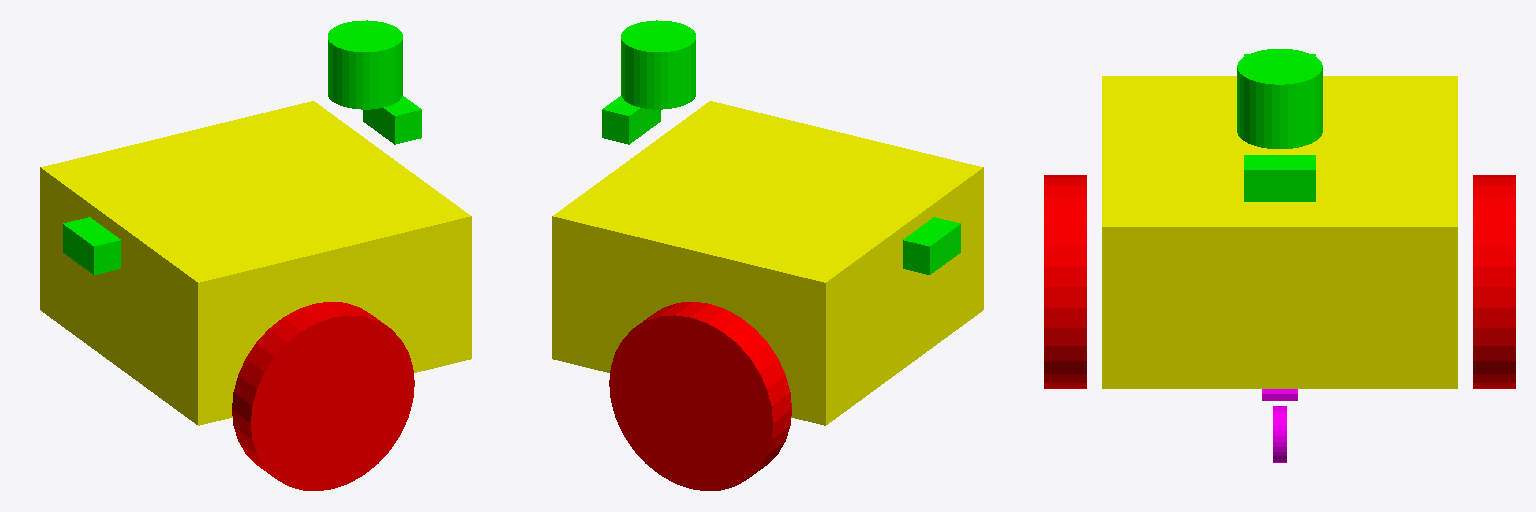
robot.urdf — orne_alpha:
<?xml version="1.0"?>
<robot name="orne_alpha">
  <link name="base_link">
    <inertial>
      <origin xyz="0.0 0.0 0.0" rpy="0.0 0.0 0.0"/>
      <mass value="0.0"/>
      <inertia ixx="0.0" ixy="0.0" ixz="0.0" iyy="0.0" iyz="0.0" izz="0.0"/>
    </inertial>
  </link>
  <link name="body">
    <inertial>
      <origin xyz="0.0 0.0 0.0" rpy="0.0 0.0 0.0"/>
      <mass value="10"/>
      <inertia ixx="0.4" ixy="0.0" ixz="0.0" iyy="0.4" iyz="0.0" izz="0.4"/>
    </inertial>
    <visual name="">
      <origin xyz="0.0 0.0 0.0" rpy="0.0 0.0 0.0"/>
      <geometry>
        <box size="0.5 0.5 0.25"/>
      </geometry>
      <material name="">
        <color rgba="1.0 1.0 0.0 1.0"/>
      </material>
    </visual>
    <collision>
      <origin xyz="0.0 0.0 0.0" rpy="0.0 0.0 0.0"/>
      <geometry>
        <box size="0.5 0.5 0.25"/>
      </geometry>
    </collision>
  </link>
  <link name="left_wheel">
    <inertial>
      <origin xyz="0.0 0.0 0.0" rpy="0.0 0.0 0.0"/>
      <mass value="0.5"/>
      <inertia ixx="0.01" ixy="0.0" ixz="0.0" iyy="0.01" iyz="0.0" izz="0.01"/>
    </inertial>
    <visual name="">
      <origin xyz="0.0 0.0 0.0" rpy="0.0 0.0 0.0"/>
      <geometry>
        <cylinder radius="0.15" length="0.06"/>
      </geometry>
      <material name="">
        <color rgba="1.0 0.0 0.0 1.0"/>
      </material>
    </visual>
    <collision>
      <origin xyz="0.0 0.0 0.0" rpy="0.0 0.0 0.0"/>
      <geometry>
        <cylinder radius="0.15" length="0.06"/>
      </geometry>
    </collision>
  </link>
  <link name="right_wheel">
    <inertial>
      <origin xyz="0.0 0.0 0.0" rpy="0.0 0.0 0.0"/>
      <mass value="0.5"/>
      <inertia ixx="0.01" ixy="0.0" ixz="0.0" iyy="0.01" iyz="0.0" izz="0.01"/>
    </inertial>
    <visual name="">
      <origin xyz="0.0 0.0 0.0" rpy="0.0 0.0 0.0"/>
      <geometry>
        <cylinder radius="0.15" length="0.06"/>
      </geometry>
      <material name="">
        <color rgba="1.0 0.0 0.0 1.0"/>
      </material>
    </visual>
    <collision>
      <origin xyz="0.0 0.0 0.0" rpy="0.0 0.0 0.0"/>
      <geometry>
        <cylinder radius="0.15" length="0.06"/>
      </geometry>
    </collision>
  </link>
  <link name="front_free_wheel_base">
    <inertial>
      <origin xyz="0.0 0.0 0.0" rpy="0.0 0.0 0.0"/>
      <mass value="0.1"/>
      <inertia ixx="0.001" ixy="0.0" ixz="0.0" iyy="0.001" iyz="0.0" izz="0.001"/>
    </inertial>
    <visual name="">
      <origin xyz="0.0 0.0 0.0" rpy="0.0 0.0 0.0"/>
      <geometry>
        <box size="0.05 0.05 0.01"/>
      </geometry>
      <material name="">
        <color rgba="1.0 0.0 1.0 1.0"/>
      </material>
    </visual>
    <collision>
      <origin xyz="0.0 0.0 0.0" rpy="0.0 0.0 0.0"/>
      <geometry>
        <box size="0.05 0.05 0.01"/>
      </geometry>
    </collision>
  </link>
  <link name="front_free_wheel">
    <inertial>
      <origin xyz="0.0 0.0 0.0" rpy="0.0 0.0 0.0"/>
      <mass value="0.2"/>
      <inertia ixx="0.005" ixy="0.0" ixz="0.0" iyy="0.005" iyz="0.0" izz="0.005"/>
    </inertial>
    <visual name="">
      <origin xyz="0.0 0.0 0.0" rpy="0.0 0.0 0.0"/>
      <geometry>
        <cylinder radius="0.04" length="0.02"/>
      </geometry>
      <material name="">
        <color rgba="1.0 0.0 1.0 1.0"/>
      </material>
    </visual>
    <collision>
      <origin xyz="0.0 0.0 0.0" rpy="0.0 0.0 0.0"/>
      <geometry>
        <cylinder radius="0.04" length="0.02"/>
      </geometry>
    </collision>
  </link>
  <link name="imu">
    <inertial>
      <origin xyz="0.0 0.0 0.0" rpy="0.0 0.0 0.0"/>
      <mass value="0.0"/>
      <inertia ixx="0.0" ixy="0.0" ixz="0.0" iyy="0.0" iyz="0.0" izz="0.0"/>
    </inertial>
    <visual name="">
      <origin xyz="0.0 0.0 0.0" rpy="0.0 0.0 0.0"/>
      <geometry>
        <box size="0.01 0.01 0.01"/>
      </geometry>
      <material name="">
        <color rgba="0.0 1.0 0.0 1.0"/>
      </material>
    </visual>
  </link>
  <link name="lidar">
    <inertial>
      <origin xyz="0.0 0.0 0.0" rpy="0.0 0.0 0.0"/>
      <mass value="0.3"/>
      <inertia ixx="0.0" ixy="0.0" ixz="0.0" iyy="0.0" iyz="0.0" izz="0.0"/>
    </inertial>
    <visual name="">
      <origin xyz="0.0 0.0 0.0" rpy="0.0 0.0 0.0"/>
      <geometry>
        <cylinder radius="0.06" length="0.1"/>
      </geometry>
      <material name="">
        <color rgba="0.0 1.0 0.0 1.0"/>
      </material>
    </visual>
    <collision>
      <origin xyz="0.0 0.0 0.0" rpy="0.0 0.0 0.0"/>
      <geometry>
        <cylinder radius="0.06" length="0.13"/>
      </geometry>
    </collision>
  </link>
  <link name="front_camera">
    <inertial>
      <origin xyz="0.0 0.0 0.0" rpy="0.0 0.0 0.0"/>
      <mass value="0.05"/>
      <inertia ixx="0.0" ixy="0.0" ixz="0.0" iyy="0.0" iyz="0.0" izz="0.0"/>
    </inertial>
    <visual name="">
      <origin xyz="0.0 0.0 0.0" rpy="0.0 0.0 0.0"/>
      <geometry>
        <box size="0.05 0.1 0.05"/>
      </geometry>
      <material name="">
        <color rgba="0.0 1.0 0.0 1.0"/>
      </material>
    </visual>
    <collision>
      <origin xyz="0.0 0.0 0.0" rpy="0.0 0.0 0.0"/>
      <geometry>
        <box size="0.05 0.1 0.05"/>
      </geometry>
    </collision>
  </link>
  <link name="back_camera">
    <inertial>
      <origin xyz="0.0 0.0 0.0" rpy="0.0 0.0 0.0"/>
      <mass value="0.0"/>
      <inertia ixx="0.0" ixy="0.0" ixz="0.0" iyy="0.0" iyz="0.0" izz="0.0"/>
    </inertial>
    <visual name="">
      <origin xyz="0.0 0.0 0.0" rpy="0.0 0.0 0.0"/>
      <geometry>
        <box size="0.05 0.1 0.05"/>
      </geometry>
      <material name="">
        <color rgba="0.0 1.0 0.0 1.0"/>
      </material>
    </visual>
    <collision>
      <origin xyz="0.0 0.0 0.0" rpy="0.0 0.0 0.0"/>
      <geometry>
        <box size="0.05 0.1 0.05"/>
      </geometry>
    </collision>
  </link>
  <link name="third_person_camera">
    <inertial>
      <origin xyz="0.0 0.0 0.0" rpy="0.0 0.0 0.0"/>
      <mass value="0.0"/>
      <inertia ixx="0.0" ixy="0.0" ixz="0.0" iyy="0.0" iyz="0.0" izz="0.0"/>
    </inertial>
  </link>
  <joint name="base_to_body_joint" type="fixed">
    <origin xyz="0.1 0.0 -0.15" rpy="0.0 0.0 0.0"/>
    <parent link="base_link"/>
    <child link="body"/>
  </joint>
  <joint name="left_motor_joint" type="revolute">
    <origin xyz="-0.05 0.3 -0.1" rpy="1.5708 0.0 0.0"/>
    <parent link="body"/>
    <child link="left_wheel"/>
    <axis xyz="0.0 0.0 -1.0"/>
    <limit lower="-1e16" upper="1e16" effort="0.5" velocity="8"/>
    <dynamics damping="0.1"/>
  </joint>
  <joint name="right_motor_joint" type="revolute">
    <origin xyz="-0.05 -0.3 -0.1" rpy="1.5708 0.0 0.0"/>
    <parent link="body"/>
    <child link="right_wheel"/>
    <axis xyz="0.0 0.0 -1.0"/>
    <limit lower="-1e16" upper="1e16" effort="0.5" velocity="8"/>
    <dynamics damping="0.1"/>
  </joint>
  <joint name="front_free_wheel_base_joint" type="revolute">
    <origin xyz="0.2 0.0 -0.15" rpy="0.0 0.0 0.0"/>
    <parent link="body"/>
    <child link="front_free_wheel_base"/>
    <axis xyz="0.0 0.0 1.0"/>
    <limit lower="-1e16" upper="1e16" effort="0" velocity="0"/>
  </joint>
  <joint name="front_free_wheel_joint" type="revolute">
    <origin xyz="0.02 0.0 -0.06" rpy="1.5708 0.0 0.0"/>
    <parent link="front_free_wheel_base"/>
    <child link="front_free_wheel"/>
    <axis xyz="0.0 0.0 1.0"/>
    <limit lower="-1e16" upper="1e16" effort="0" velocity="0"/>
  </joint>
  <joint name="imu_joint" type="fixed">
    <origin xyz="0.0 0.0 0.1" rpy="0.0 0.0 0.0"/>
    <parent link="body"/>
    <child link="imu"/>
  </joint>
  <joint name="3d_laser_scanner_joint" type="fixed">
    <origin xyz="0.2 0.0 0.3" rpy="0.0 0.0 0.0"/>
    <parent link="body"/>
    <child link="lidar"/>
  </joint>
  <joint name="front_camera_joint" type="fixed">
    <origin xyz="0.25 0.0 0.2" rpy="0.0 0.0 0.0"/>
    <parent link="body"/>
    <child link="front_camera"/>
  </joint>
  <joint name="back_camera_joint" type="fixed">
    <origin xyz="-0.3 0.0 0.1" rpy="0.0 0.0 3.1416"/>
    <parent link="body"/>
    <child link="back_camera"/>
  </joint>
  <joint name="third_person_camera_joint" type="fixed">
    <origin xyz="-1.5 0.0 1.0" rpy="0.0 0.25 0.0"/>
    <parent link="base_link"/>
    <child link="third_person_camera"/>
  </joint>
  <gazebo reference="imu">
    <sensor name="imu" type="imu">
      <always_on>1</always_on>
      <update_rate>200</update_rate>
      <visualize>false</visualize>
      <imu>
        <angular_velocity>
          <x>
            <noise type="gaussian">
              <mean>0.0</mean>
              <stddev>0.1</stddev>
            </noise>
          </x>
          <y>
            <noise type="gaussian">
              <mean>0.0</mean>
              <stddev>0.1</stddev>
            </noise>
          </y>
          <z>
            <noise type="gaussian">
              <mean>0.0</mean>
              <stddev>0.2</stddev>
            </noise>
          </z>
        </angular_velocity>
        <linear_acceleration>
          <x>
            <noise type="gaussian">
              <mean>0.0</mean>
              <stddev>0.1</stddev>
            </noise>
          </x>
          <y>
            <noise type="gaussian">
              <mean>0.0</mean>
              <stddev>0.1</stddev>
            </noise>
          </y>
          <z>
            <noise type="gaussian">
              <mean>0.0</mean>
              <stddev>0.2</stddev>
            </noise>
          </z>
        </linear_acceleration>
      </imu>
    </sensor>
  </gazebo>
  <gazebo reference="lidar">
    <sensor name="lidar" type="gpu_lidar">
      <alwaysOn>1</alwaysOn>
      <update_rate>10</update_rate>
      <visualize>false</visualize>
      <lidar>
        <scan>
          <horizontal>
            <samples>1875</samples>
            <resolution>1</resolution>
            <min_angle>-3.141592</min_angle>
            <max_angle>3.141592</max_angle>
          </horizontal>
          <vertical>
            <samples>16</samples>
            <resolution>1</resolution>
            <min_angle>-0.261799</min_angle>
            <max_angle>0.261799</max_angle>
          </vertical>
        </scan>
        <range>
          <min>0.3</min>
          <max>100.0</max>
          <resolution>0.001</resolution>
        </range>
        <noise type="gaussian">
          <mean>0.0</mean>
          <stddev>0.05</stddev>
        </noise>
      </lidar>
    </sensor>
  </gazebo>
  <gazebo reference="front_camera">
    <sensor name="front_camera" type="rgbd_camera">
      <always_on>1</always_on>
      <update_rate>30</update_rate>
      <visualize>false</visualize>
      <camera>
        <horizontal_fov>1.547</horizontal_fov>
        <image>
          <width>848</width>
          <height>480</height>
        </image>
        <clip>
          <near>0.4</near>
          <far>20</far>
        </clip>
        <noise type="gaussian">
          <mean>0.0</mean>
          <stddev>0.1</stddev>
        </noise>
      </camera>
    </sensor>
  </gazebo>
  <gazebo reference="back_camera">
    <sensor name="back_camera" type="camera">
      <always_on>1</always_on>
      <update_rate>30</update_rate>
      <visualize>false</visualize>
      <camera>
        <horizontal_fov>1.047</horizontal_fov>
        <image>
          <width>320</width>
          <height>240</height>
        </image>
        <clip>
          <near>0.1</near>
          <far>100</far>
        </clip>
        <noise type="gaussian">
          <mean>0.0</mean>
          <stddev>0.1</stddev>
        </noise>
      </camera>
    </sensor>
  </gazebo>
  <gazebo reference="third_person_camera">
    <sensor name="third_person_camera" type="camera">
      <always_on>1</always_on>
      <update_rate>30</update_rate>
      <visualize>false</visualize>
      <camera>
        <horizontal_fov>1.547</horizontal_fov>
        <image>
          <width>320</width>
          <height>240</height>
        </image>
        <clip>
          <near>0.1</near>
          <far>100</far>
        </clip>
        <noise type="none">
          <mean>0.0</mean>
          <stddev>0.0</stddev>
        </noise>
      </camera>
    </sensor>
  </gazebo>
</robot>

--- Render facts (derived) ---
Views: 3 orthographic renders of the robot side by side, from view 1: azimuth 30°, elevation 25°; view 2: azimuth 150°, elevation 25°; view 3: azimuth 270°, elevation 25°.
Robot: orne_alpha — 11 links, 10 joints (4 revolute, 6 fixed); root link base_link; default pose: all joints at 0.
Links seen in each view (by area): view 1: body, right_wheel, lidar, back_camera, front_camera; view 2: body, left_wheel, lidar, back_camera, front_camera; view 3: body, left_wheel, right_wheel, lidar, front_camera, front_free_wheel.
Boxes of the visible links, box(x1,y1,x2,y2) form: body: box(40, 101, 471, 425); right_wheel: box(232, 302, 414, 490); lidar: box(328, 20, 402, 109); back_camera: box(63, 217, 120, 274); front_camera: box(363, 96, 421, 144); body: box(552, 101, 983, 425); left_wheel: box(609, 302, 791, 490); lidar: box(621, 20, 695, 109); back_camera: box(903, 217, 960, 274); front_camera: box(602, 96, 660, 144); body: box(1102, 76, 1457, 388); left_wheel: box(1473, 175, 1515, 388); right_wheel: box(1044, 175, 1086, 388); lidar: box(1237, 49, 1322, 148); front_camera: box(1244, 155, 1315, 201); front_free_wheel: box(1273, 406, 1286, 462).
Bounding box of the posed robot: 0.6 × 0.66 × 0.6 m (x, y, z).
Geometry: primitives only (box / cylinder / sphere), no mesh files.